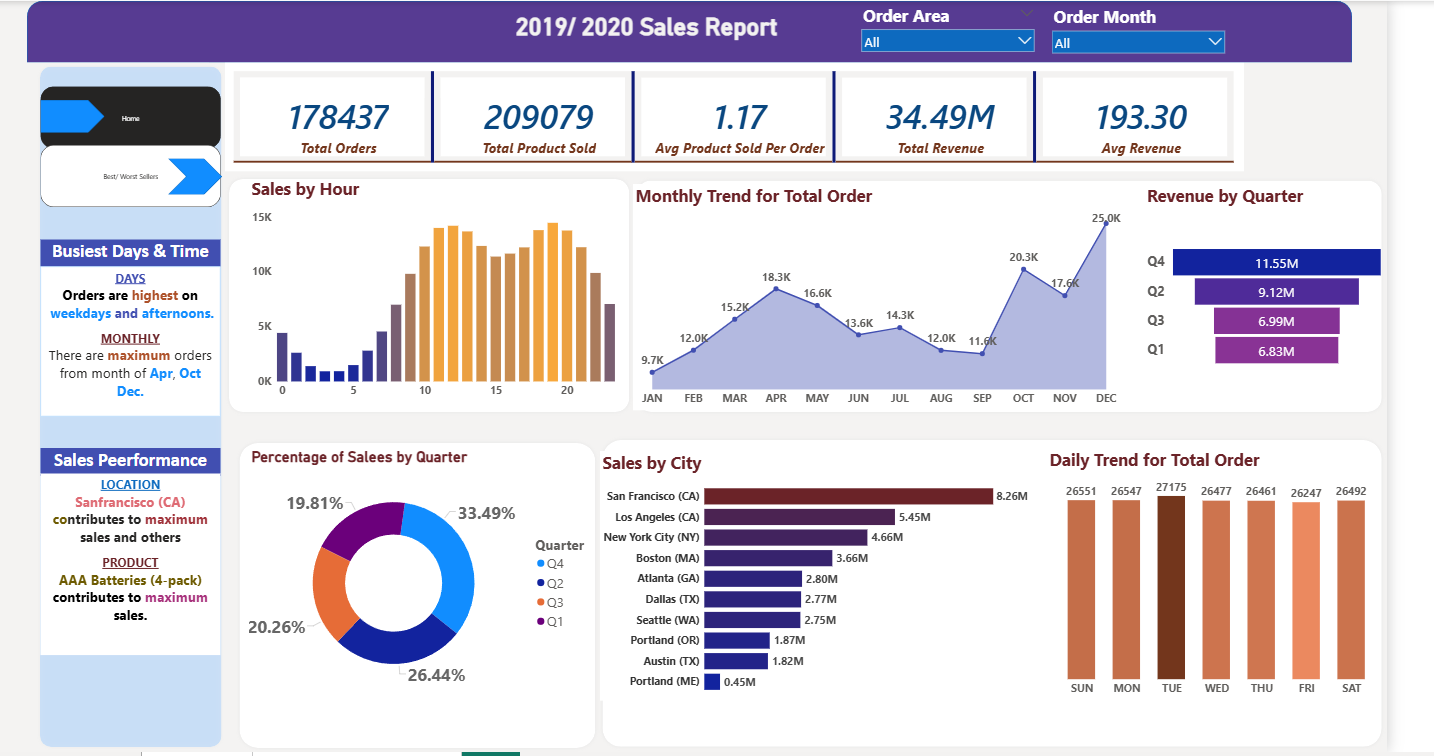

Layout of this report page (visuals, bound fields, positions):
{"tool":"powerbi","page":{"name":"Home","canvas":[2769,1500],"ordinal":0},"visuals":[{"type":"cardVisual","fields":{"Data":["Sales_Data.Total Orders","Sales_Data.Total Product Sold","Sales_Data.Avg Product Sold Per Order","Sales_Data.Total Revenue","Sales_Data.Avg Revenue"]},"box":[450,123.5,2035.3,217.6],"z":0},{"type":"shape","box":[55,0,2646.6,122.9],"z":1000},{"type":"textbox","title":"2019/ 2020 Sales Report","box":[1023.5,23.5,555.9,100],"z":2000},{"type":"shape","box":[448.8,347.2,815.6,481.5],"z":3000},{"type":"shape","box":[1264.4,350.5,1503.5,478.2],"z":4000},{"type":"areaChart","fields":{"Category":["Sales_Data.Name of Month"],"Y":["CountNonNull(Sales_Data.Order ID)"]},"box":[1264.4,366.9,982.7,452],"z":5000},{"type":"shape","box":[1195.6,868,1572.3,628.9],"z":6000},{"type":"shape","box":[471.1,874.5,726.7,625.1],"z":7000},{"type":"donutChart","title":"Percentage of Salees by Quarter","fields":{"Category":["Sales_Data.Quarter"],"Y":["Sum(Sales_Data.Amount)"]},"box":[498.8,893,699,505],"z":8000},{"type":"clusteredBarChart","fields":{"Category":["Sales_Data.City"],"Y":["Sum(Sales_Data.Amount)"]},"box":[1197.8,899.1,859.1,498.8],"z":9000},{"type":"shape","box":[71.2,122.9,378.5,1375.1],"z":10000},{"type":"textbox","title":"Busiest Days & Time","box":[82.4,476.5,358.8,52.9],"z":11000},{"type":"textbox","box":[80.9,530.3,359.5,299.6],"z":12000},{"type":"textbox","title":"Sales Peerformance","box":[80.9,892.8,359.5,53.9],"z":13000},{"type":"textbox","box":[80.9,943.8,359.5,362.5],"z":14000},{"type":"slicer","fields":{"Values":["Sales_Data.City"]},"box":[1710.8,0,365.5,122.8],"z":15000},{"type":"slicer","fields":{"Values":["Sales_Data.Month Name"]},"box":[2091.3,3,365.5,122.8],"z":16000},{"type":"clusteredColumnChart","title":"Sales by Hour","fields":{"Category":["Sales_Data.Hour"],"Y":["Sum(Sales_Data.Quantity Ordered)"]},"box":[497.9,350.5,766.5,452],"z":17000},{"type":"columnChart","title":"Daily Trend for Total Order","fields":{"Category":["Sales_Data.Order Day"],"Y":["CountNonNull(Sales_Data.Order ID)"]},"box":[2089.9,894.3,678.1,504.5],"z":18000},{"type":"funnel","title":"Revenue by Quarter","fields":{"Category":["Sales_Data.Quarter"],"Y":["Sales_Data.Total Revenue"]},"box":[2286.4,366.9,481.5,442.2],"z":19000},{"type":"pageNavigator","box":[81.9,170.3,360.3,124.5],"z":20000},{"type":"pageNavigator","box":[81.9,288.3,360.3,124.5],"z":21000},{"type":"shape","box":[334.1,314.5,108.1,72.1],"z":22000},{"type":"shape","box":[81.9,196.5,127.8,65.5],"z":23000}]}

Visuals, with their boxes in screenshot pixels (x1, y1, x2, y2), scaled from the page's 2769x1500 canvas onto the 1434x756 screenshot:
cardVisual - Sales_Data.Total Orders x Sales_Data.Total Product Sold: Rect(233, 62, 1287, 172)
shape: Rect(28, 0, 1399, 62)
"2019/ 2020 Sales Report" textbox: Rect(530, 12, 818, 62)
shape: Rect(232, 175, 655, 418)
shape: Rect(655, 177, 1433, 418)
areaChart - Sales_Data.Name of Month x CountNonNull(Sales_Data.Order ID): Rect(655, 185, 1164, 413)
shape: Rect(619, 437, 1433, 754)
shape: Rect(244, 441, 620, 755)
"Percentage of Salees by Quarter" donutChart: Rect(258, 450, 620, 705)
clusteredBarChart - Sales_Data.City x Sum(Sales_Data.Amount): Rect(620, 453, 1065, 705)
shape: Rect(37, 62, 233, 755)
"Busiest Days & Time" textbox: Rect(43, 240, 228, 267)
textbox: Rect(42, 267, 228, 418)
"Sales Peerformance" textbox: Rect(42, 450, 228, 477)
textbox: Rect(42, 476, 228, 658)
slicer - Sales_Data.City: Rect(886, 0, 1075, 62)
slicer - Sales_Data.Month Name: Rect(1083, 2, 1272, 63)
"Sales by Hour" clusteredColumnChart: Rect(258, 177, 655, 404)
"Daily Trend for Total Order" columnChart: Rect(1082, 451, 1433, 705)
"Revenue by Quarter" funnel: Rect(1184, 185, 1433, 408)
pageNavigator: Rect(42, 86, 229, 149)
pageNavigator: Rect(42, 145, 229, 208)
shape: Rect(173, 159, 229, 195)
shape: Rect(42, 99, 109, 132)
